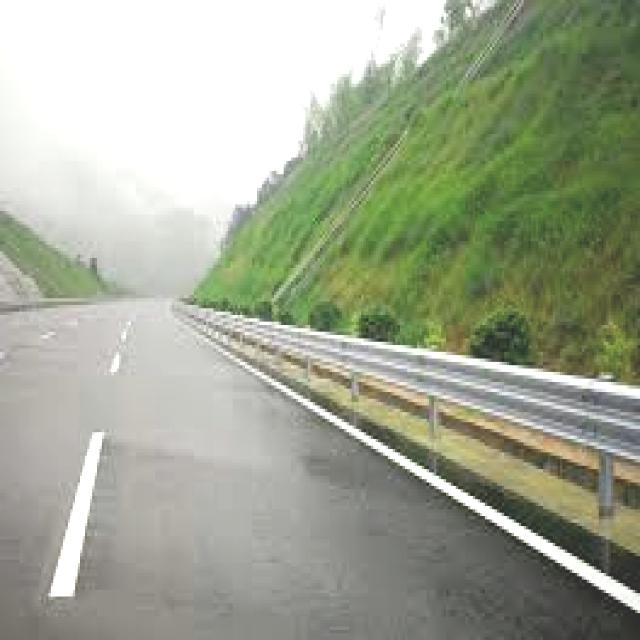Guard rail: (180, 305, 640, 462)
